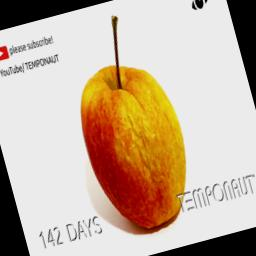Apple Unripe: (49, 0, 206, 243)
